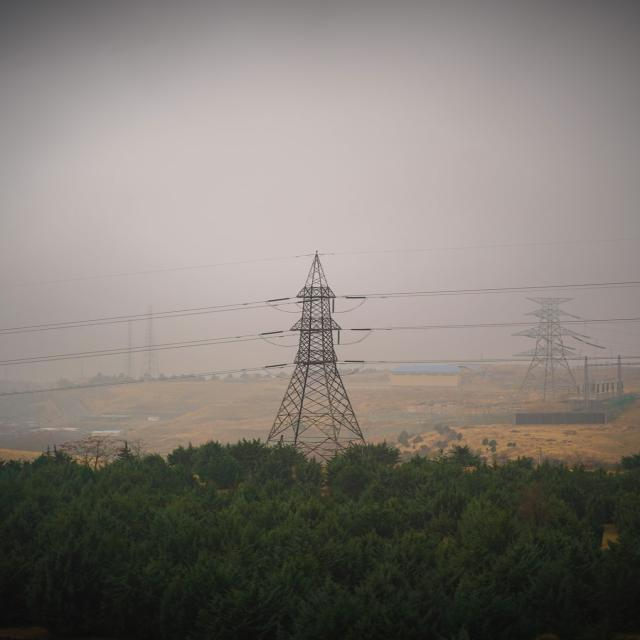transmission tower: (192, 235, 445, 452)
